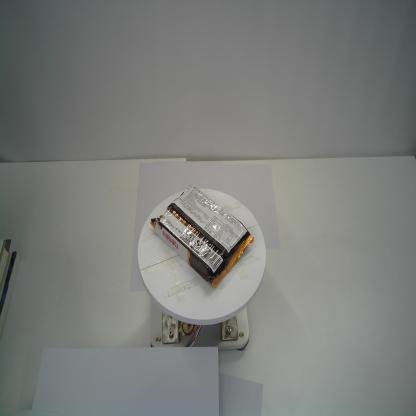Dessert: (150, 184, 254, 288)
